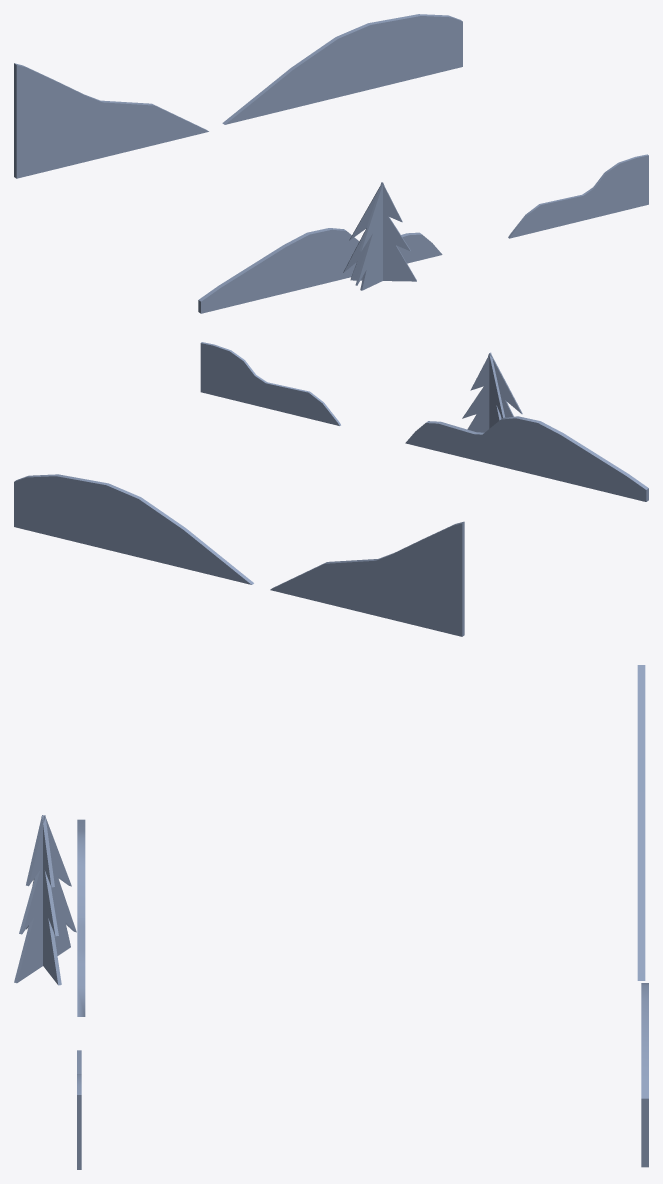
File: frame_0103.glb
3 views of the same model, one above another, from view 1: azimuth 30°, elevation 25°; view 2: azimuth 150°, elevation 25°; view 3: azimuth 270°, elevation 25° (orthographic). The views are drawn at different scales.
Visible parts, largest first — view 1: export_trees_001.002; view 2: export_trees_001.002; view 3: export_trees_001.002.
Boxes of the visible parts, x1,y1,x2,y2 form: export_trees_001.002: (14,14,648,313); export_trees_001.002: (14,342,648,636); export_trees_001.002: (14,665,648,1169).
Size of the model in its own units: 0.4327 by 0.1051 by 0.35.
